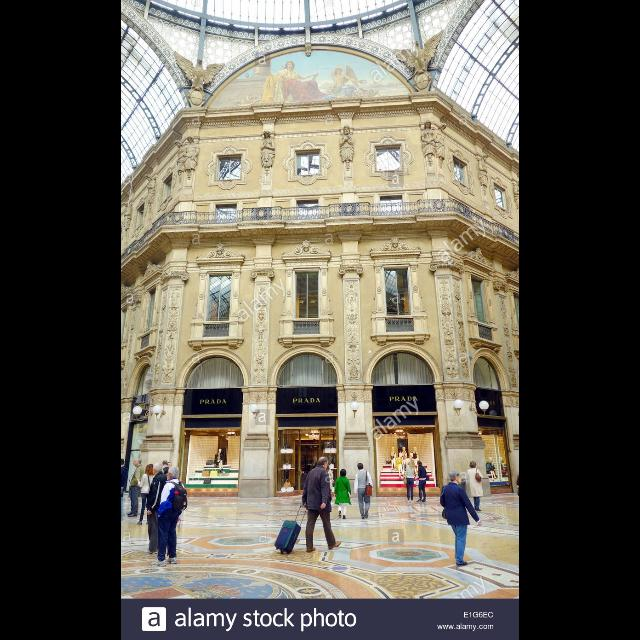head: (450, 470, 462, 486), (168, 466, 180, 482), (318, 456, 330, 470), (152, 463, 164, 475), (146, 464, 154, 474), (133, 458, 143, 466), (340, 469, 348, 477), (134, 458, 142, 466), (358, 464, 364, 471), (410, 460, 416, 466), (471, 462, 477, 468), (121, 459, 125, 466), (418, 460, 422, 466)
person: (438, 470, 484, 568), (149, 466, 189, 568), (302, 456, 342, 554), (142, 462, 168, 556), (136, 464, 158, 526), (354, 462, 376, 520), (126, 458, 146, 518), (333, 468, 353, 520), (467, 460, 485, 512), (126, 457, 142, 515), (415, 460, 431, 504), (120, 458, 130, 524), (403, 458, 417, 504)
